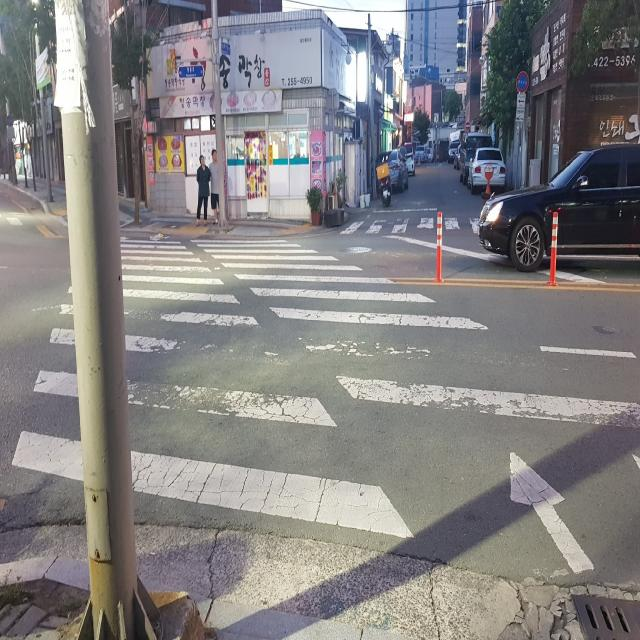횡단보도: (11, 237, 640, 574)
